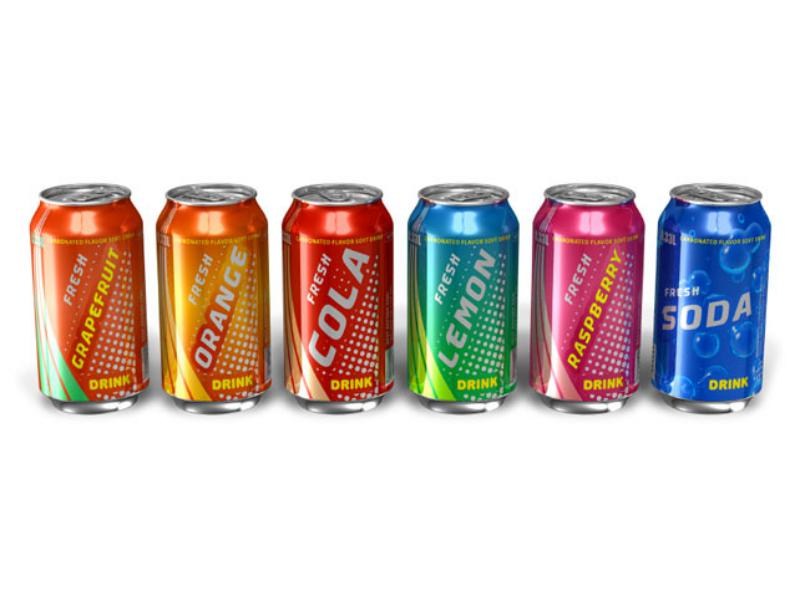can: (29, 170, 157, 421), (403, 180, 524, 425), (650, 178, 770, 418), (281, 176, 397, 422), (529, 178, 643, 418), (159, 178, 271, 417)
